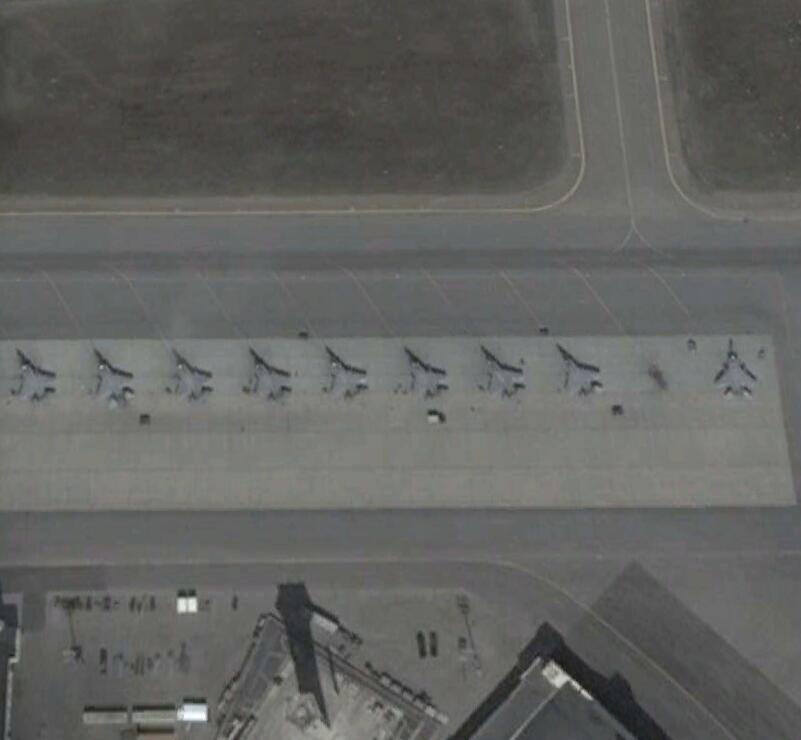A13: (87, 347, 138, 411), (400, 342, 451, 405), (478, 342, 528, 403), (11, 346, 59, 409), (320, 344, 370, 403), (715, 339, 761, 402), (167, 346, 215, 406), (246, 347, 295, 405), (557, 347, 605, 402)
